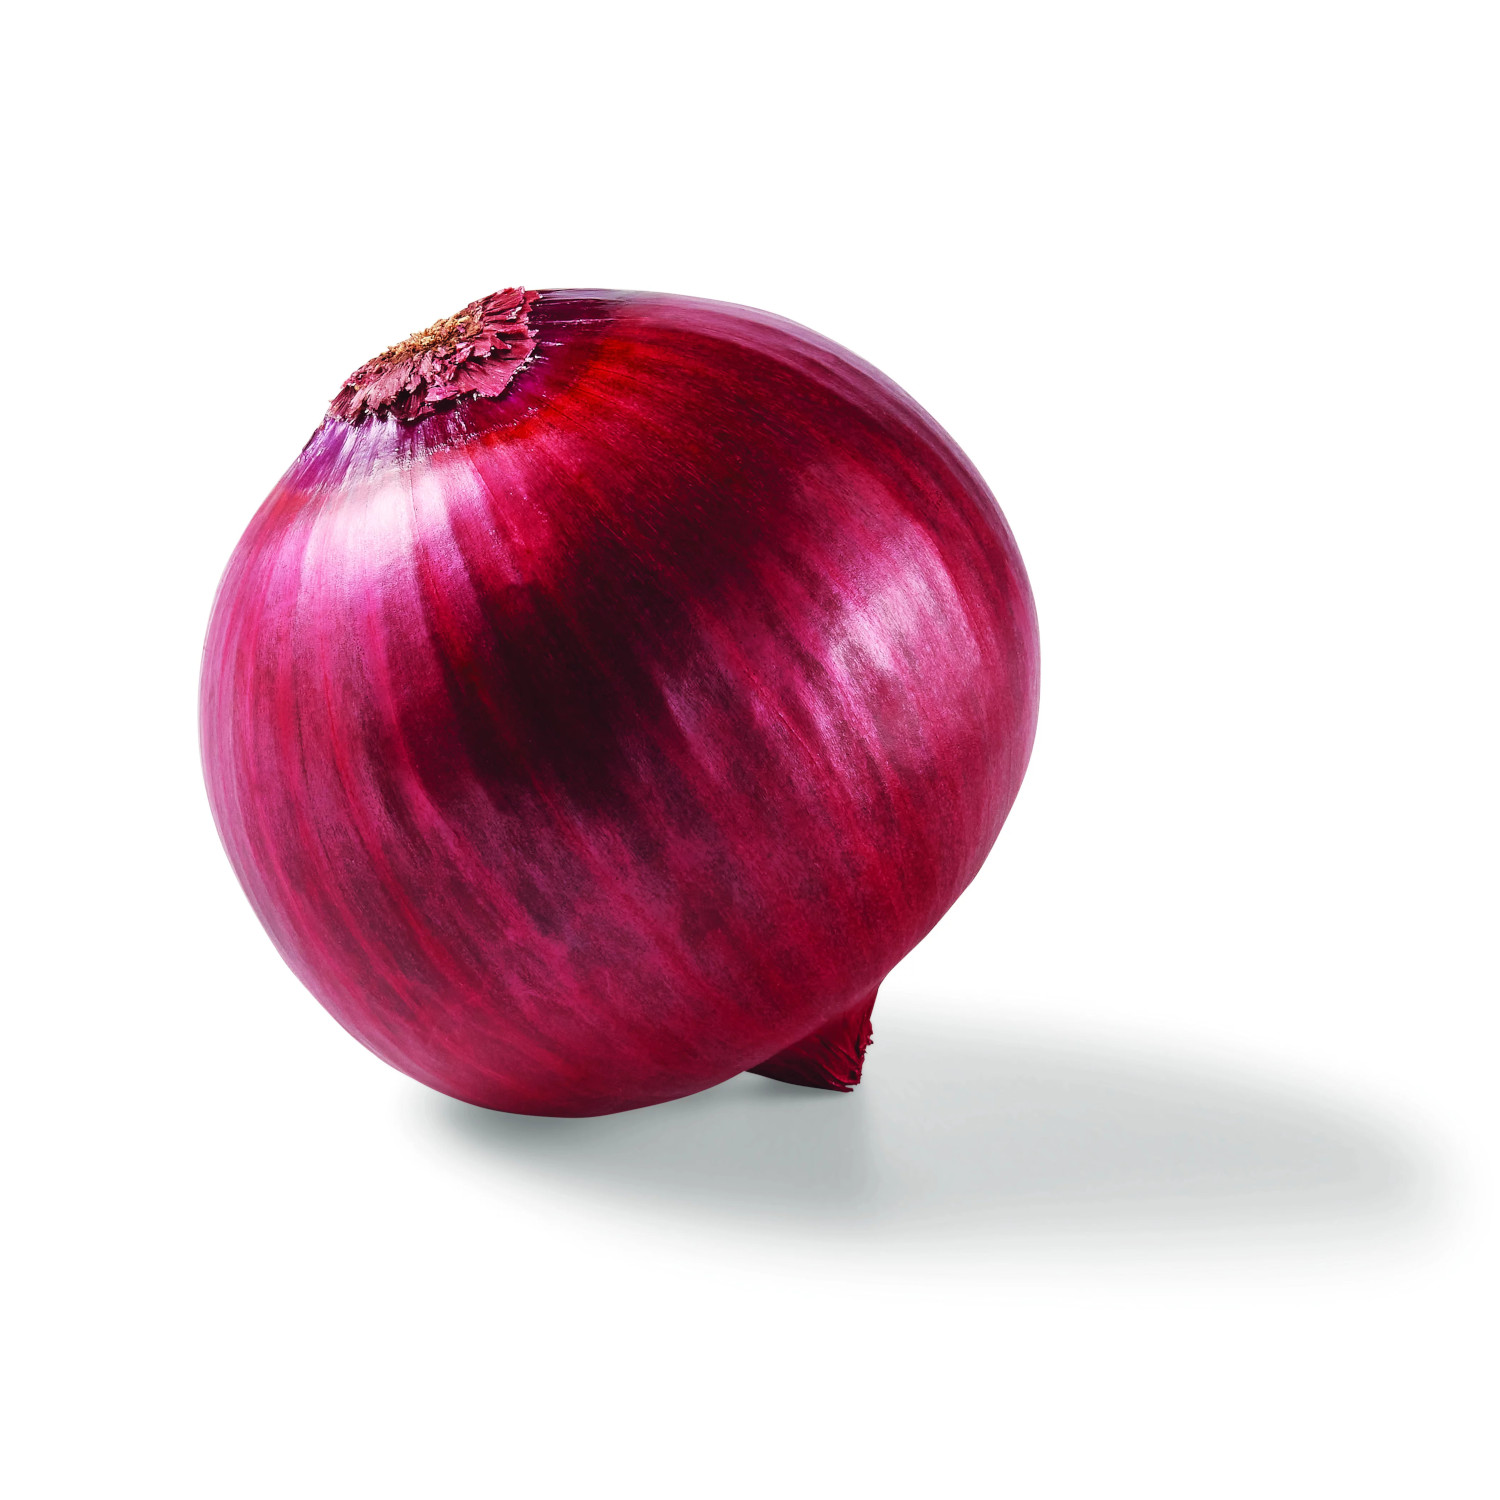onion: (190, 279, 1047, 1128)
